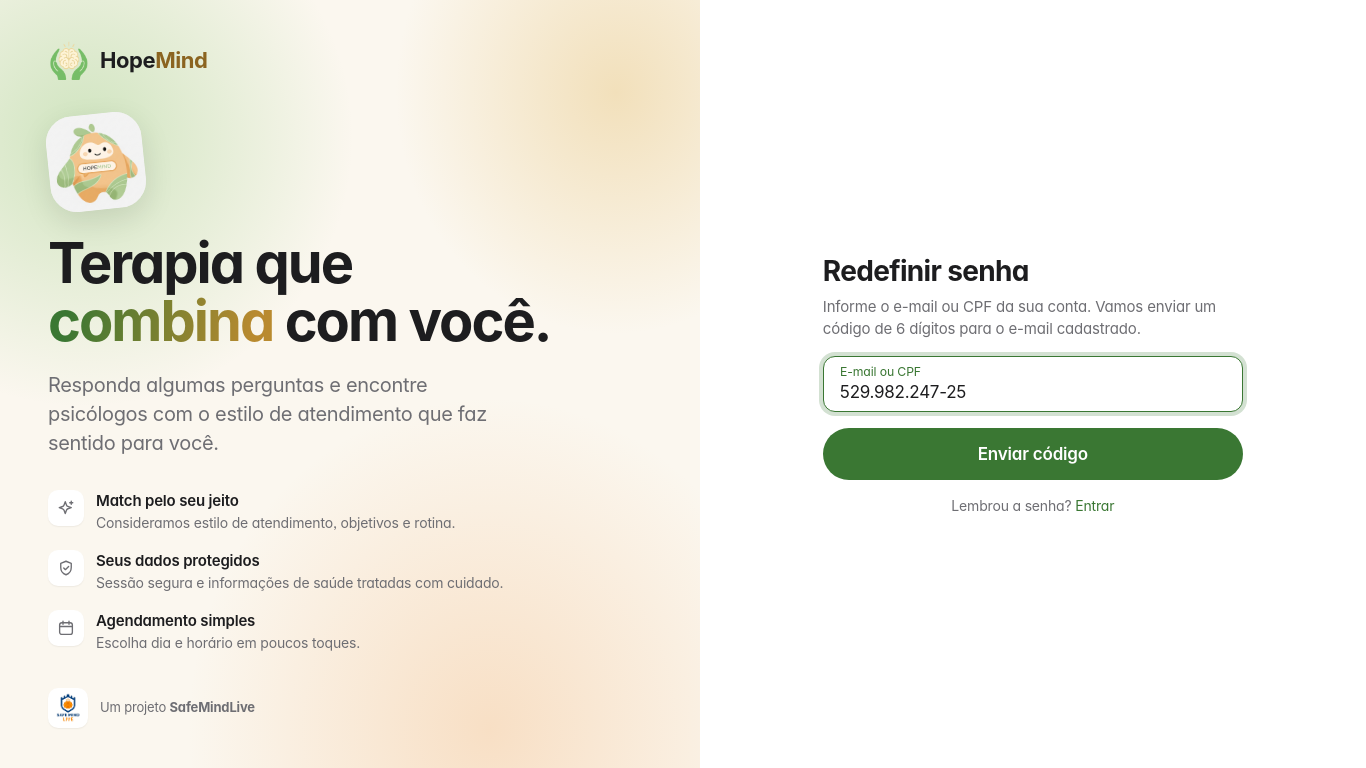
Test case: Esqueci minha senha (web) › pede o código pelo e-mail ou CPF e redefine a senha com ele
expect the field labelled "E-mail ou CPF" holds "529.982.247-25": met, box [823,356,1243,412]
Click the button "Enviar código": (1033, 454) [823,428,1243,480]
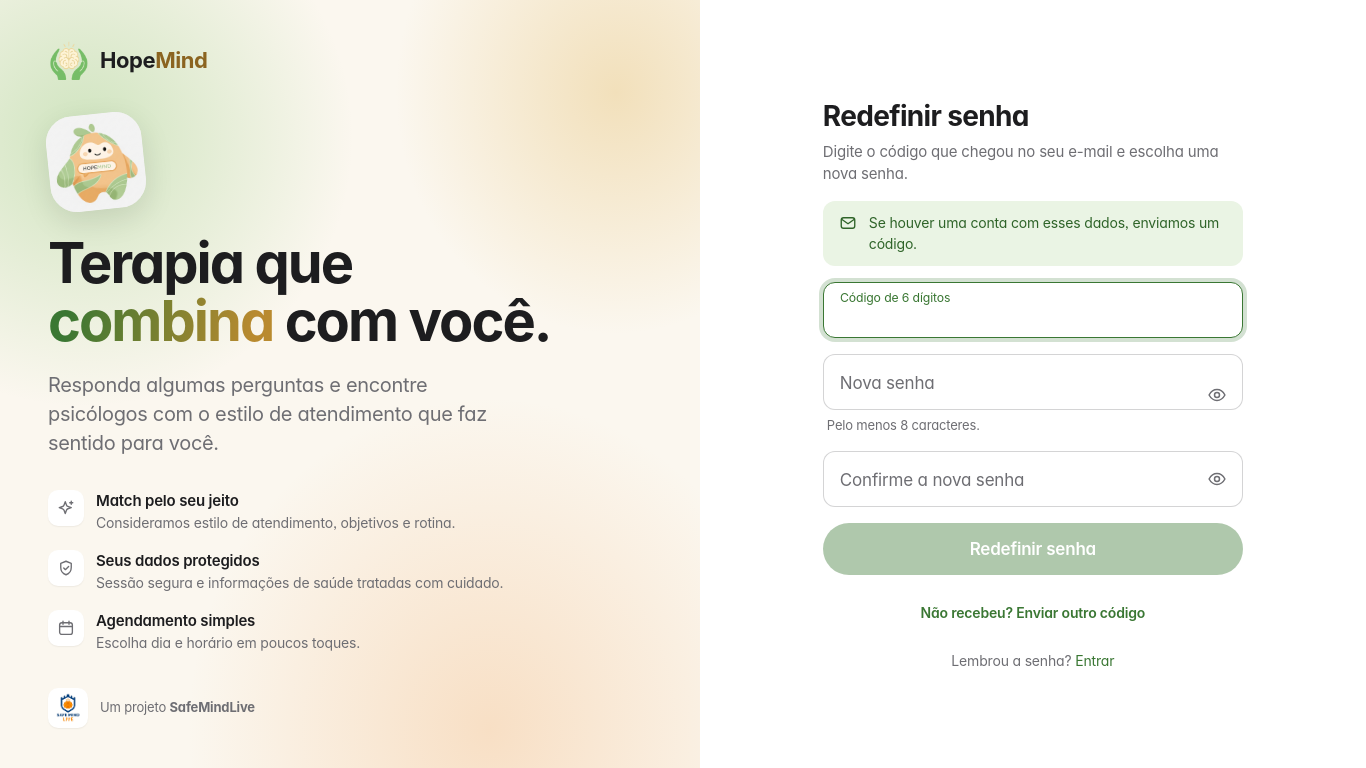
expect the text "Se houver uma conta com esses dados, enviamos um código." is shown: met, box [823,202,1243,266]
In the field labelled "Código de 6 dígitos": (1033, 310) [823,282,1243,338], type "12a3456"
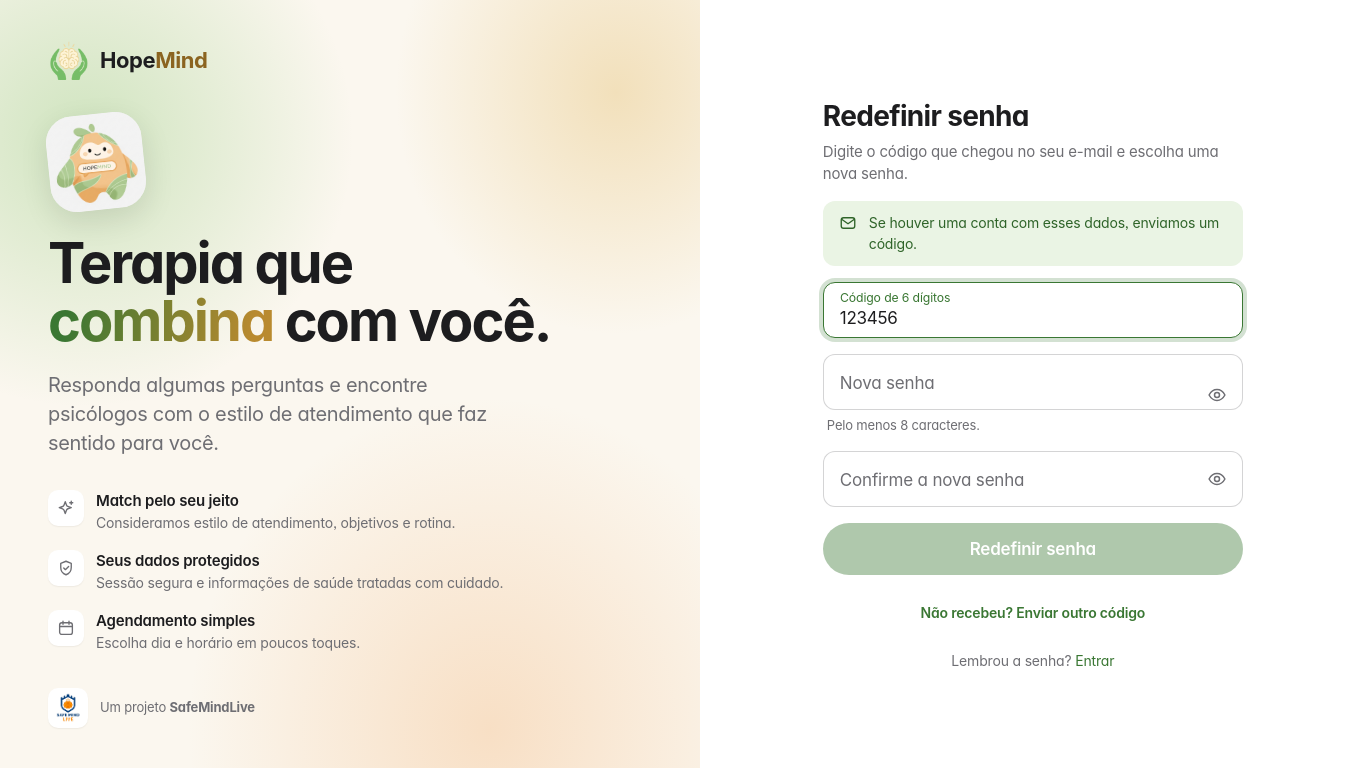
In the password field labelled "Nova senha": (1033, 382) [823,354,1243,410], type "NovaSenha2026"
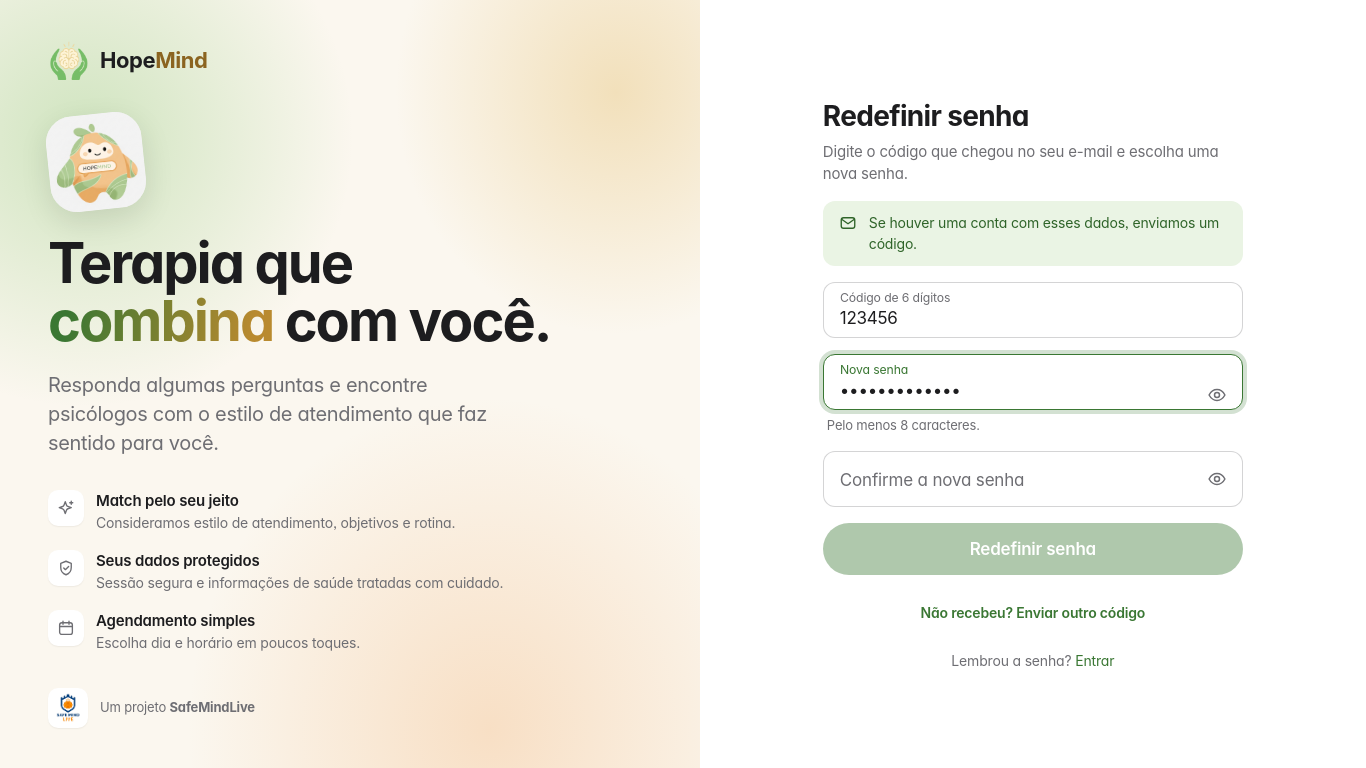
In the password field labelled "Confirme a nova senha": (1033, 479) [823,451,1243,507], type "NovaSenha2026"
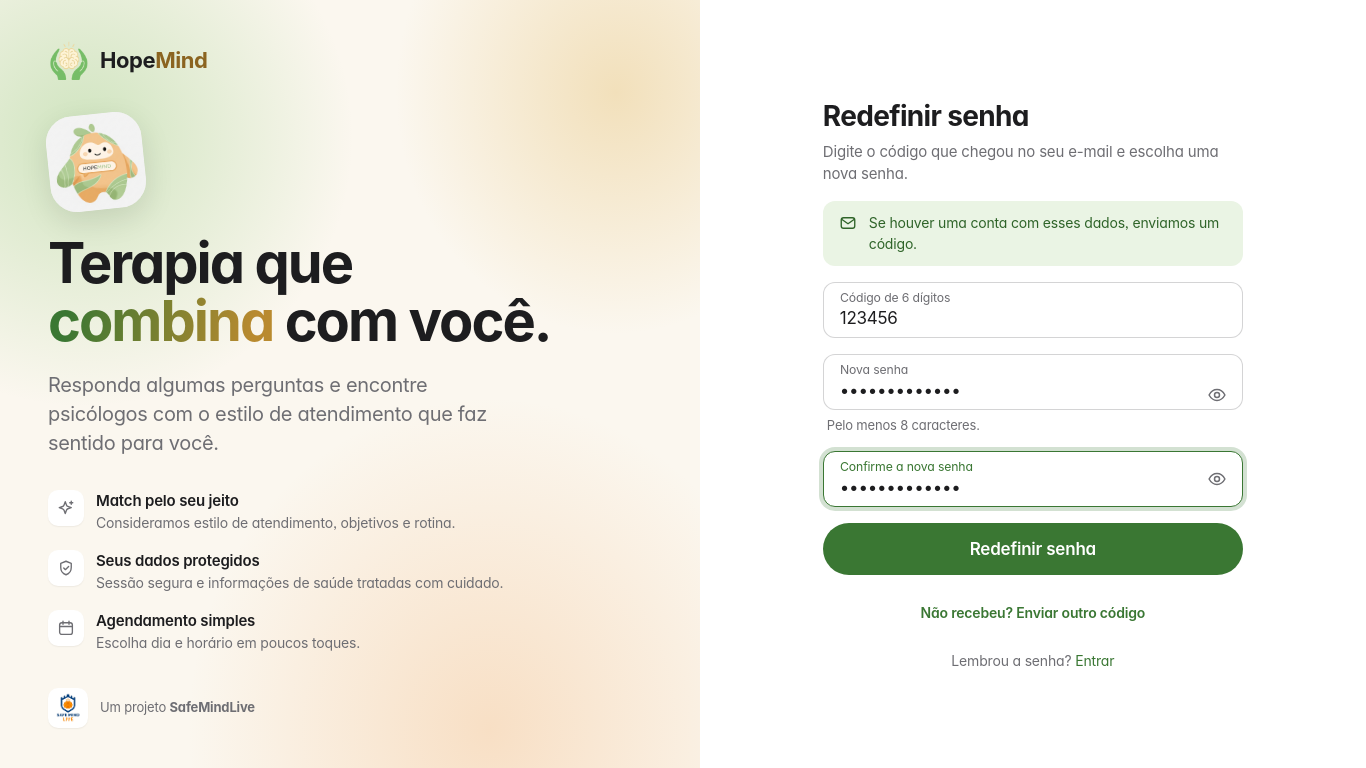
Click the button "Redefinir senha": (1033, 549) [823,523,1243,575]
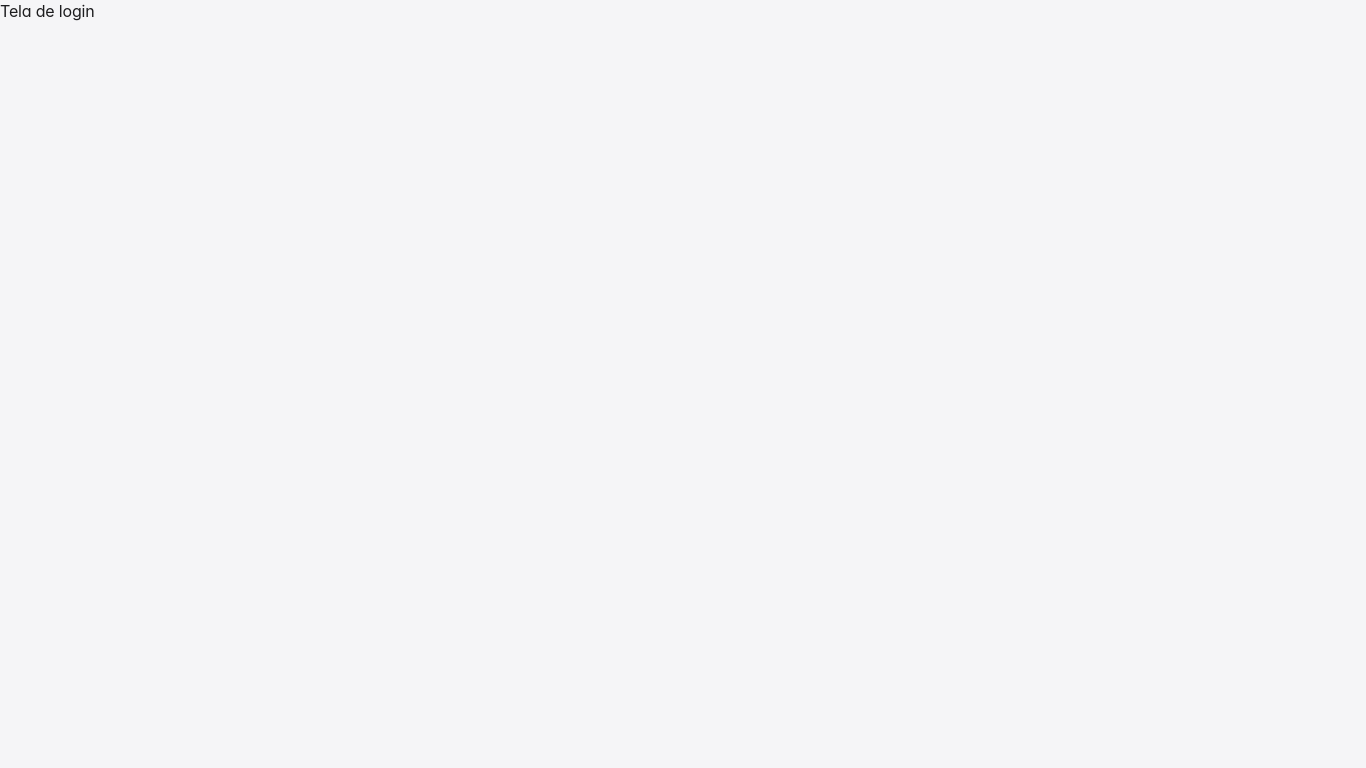
expect the text "Tela de login" is shown: met, box [0,1,94,21]
